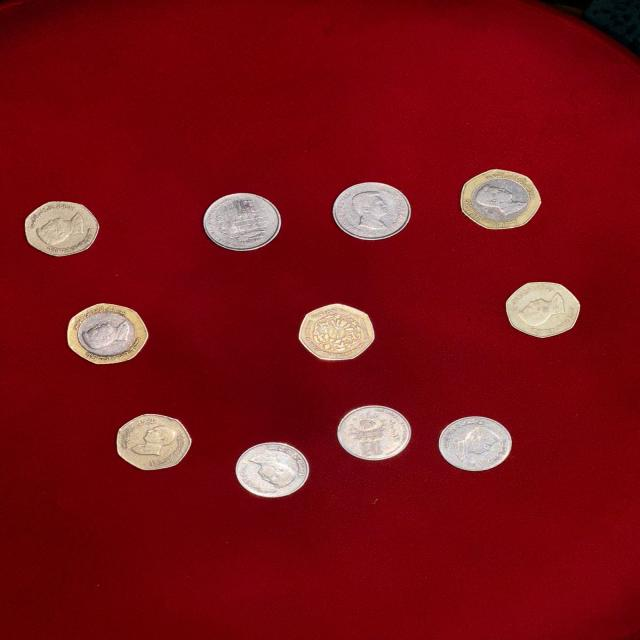10-coins: (328, 182, 414, 242), (203, 190, 282, 254)
25-coins: (20, 198, 104, 258), (297, 303, 377, 363), (115, 414, 194, 471), (508, 280, 582, 338)
5-coins: (334, 403, 415, 465), (232, 439, 313, 499), (437, 416, 516, 474)
50-coins: (458, 168, 544, 232), (65, 302, 149, 367)
